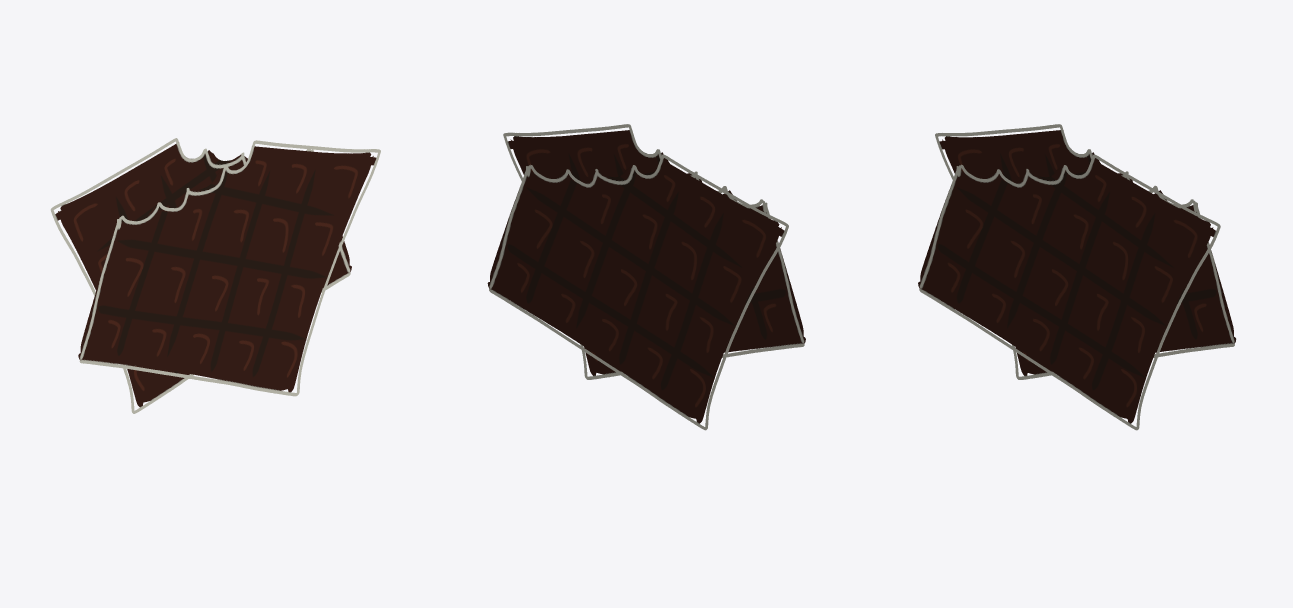
The model's file is prodpin-schoki.fbx.
3 views of the same model, side by side, from view 1: azimuth 30°, elevation 25°; view 2: azimuth 150°, elevation 25°; view 3: azimuth 330°, elevation 25° (orthographic).
Visible parts, largest first — view 1: ProdPIn; view 2: ProdPIn; view 3: ProdPIn.
Boxes of the visible parts, box(x1,y1,x2,y2) form: ProdPIn: box(50, 138, 380, 413); ProdPIn: box(487, 124, 805, 430); ProdPIn: box(918, 124, 1236, 430).
Bounding box in the file's own units: 200 × 268 × 20.35.
Materials: 1 (1 with a texture image).
